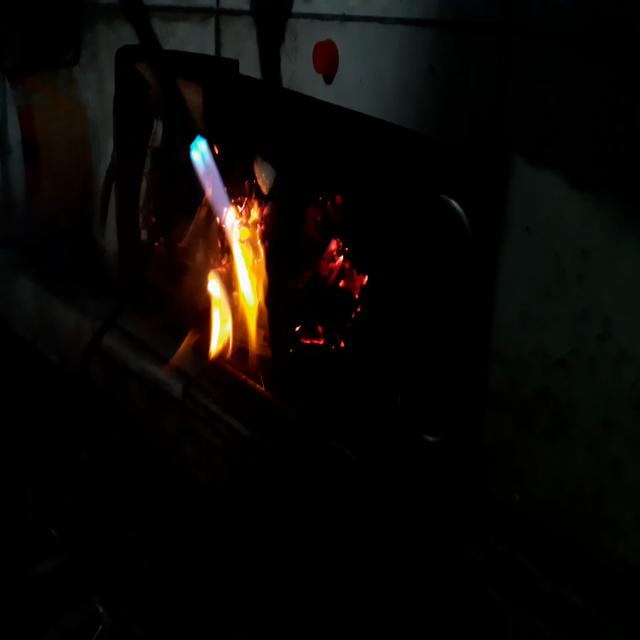Fire: (175, 122, 279, 387), (289, 200, 394, 382)
